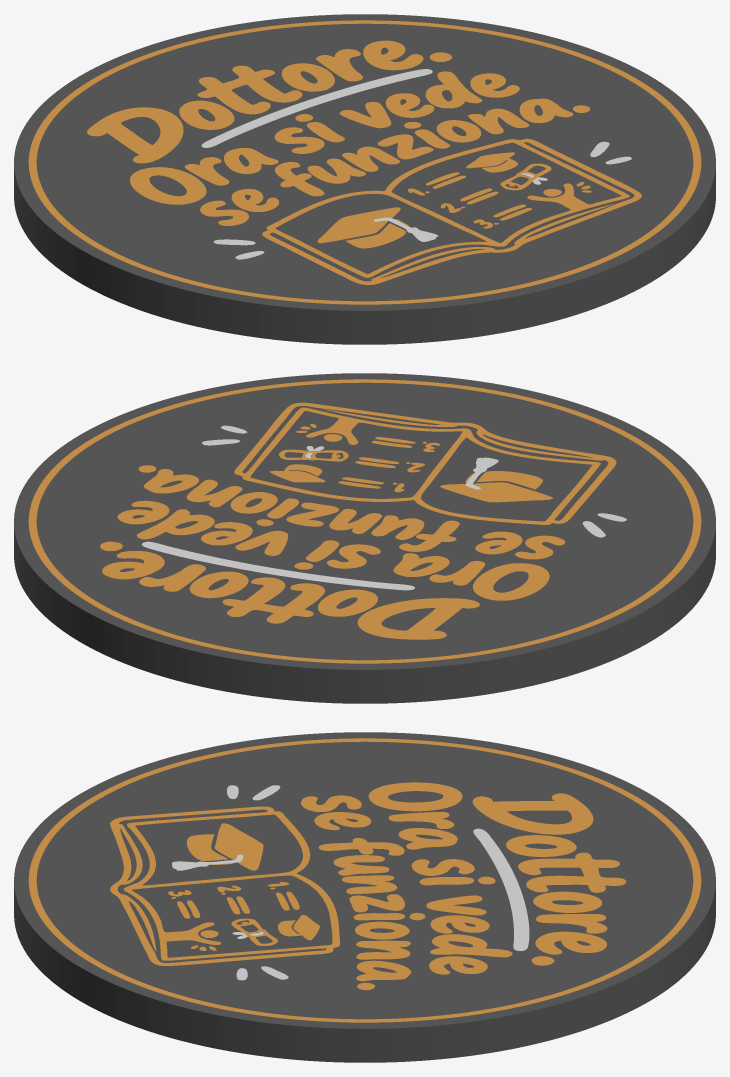
File: sottobicchiere-dottore-ora-si-vede.glb
3 renders of one model, top to bottom at view 1: azimuth 30°, elevation 25°; view 2: azimuth 150°, elevation 25°; view 3: azimuth 270°, elevation 25°, orthographic.
Parts seen in each view (by area): view 1: coaster_base, coaster_ink, coaster_accent; view 2: coaster_base, coaster_ink, coaster_accent; view 3: coaster_base, coaster_ink, coaster_accent.
Boxes of the visible parts, x1=… form: coaster_base: x1=14, y1=14, x2=715, y2=344; coaster_ink: x1=28, y1=20, x2=701, y2=304; coaster_accent: x1=201, y1=69, x2=631, y2=259; coaster_base: x1=14, y1=373, x2=715, y2=703; coaster_ink: x1=28, y1=379, x2=701, y2=663; coaster_accent: x1=141, y1=425, x2=626, y2=590; coaster_base: x1=14, y1=732, x2=715, y2=1062; coaster_ink: x1=28, y1=738, x2=701, y2=1022; coaster_accent: x1=172, y1=785, x2=529, y2=980.
Size of the model in its own units: 0.075 by 0.004 by 0.075.
